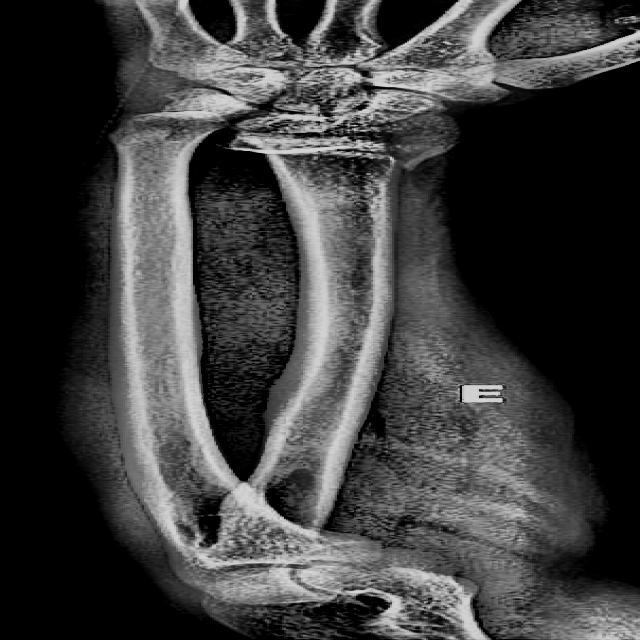fracture: (245, 142, 430, 160)
